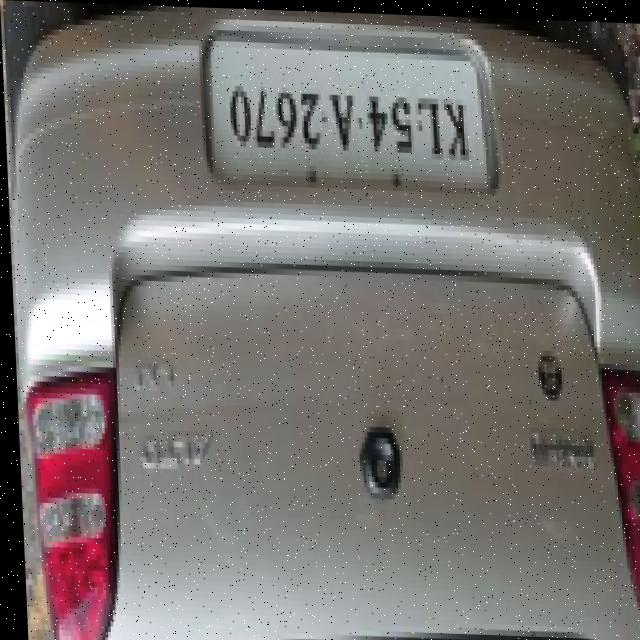plate: (206, 38, 484, 184)
